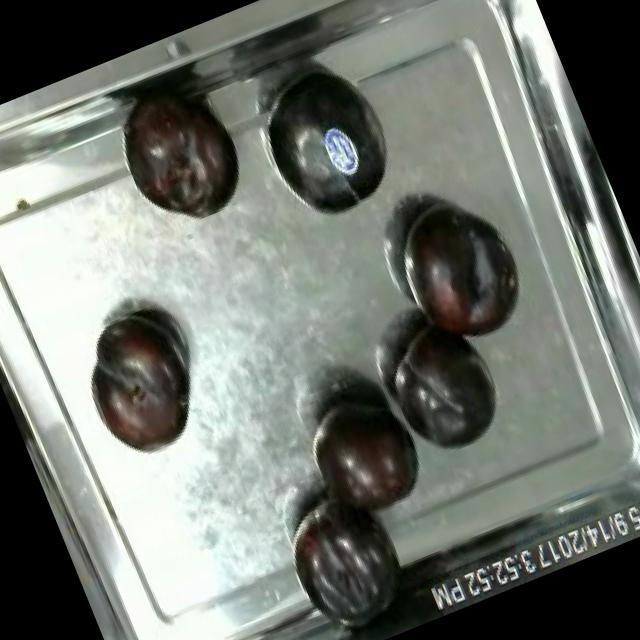Fruit: (238, 51, 414, 244), (102, 68, 263, 244), (382, 183, 536, 361), (64, 297, 214, 471), (269, 476, 420, 640), (372, 302, 518, 468), (292, 372, 439, 536)
